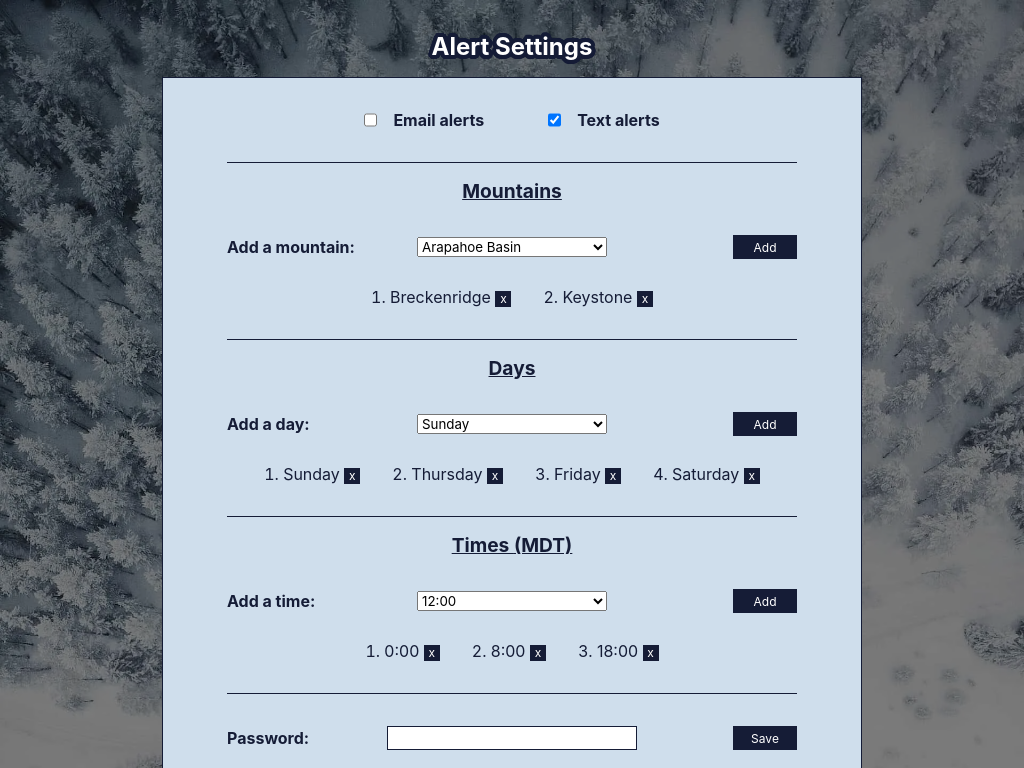
Test case: Adds selected time to list on click
This screenshot has width=1024, height=768.
Expected: the list with test id "time-list" is shown, [365, 645, 659, 661]
Select "11:00" in the dropdown labelled "Add a time:" at (512, 601), box [417, 591, 607, 611]
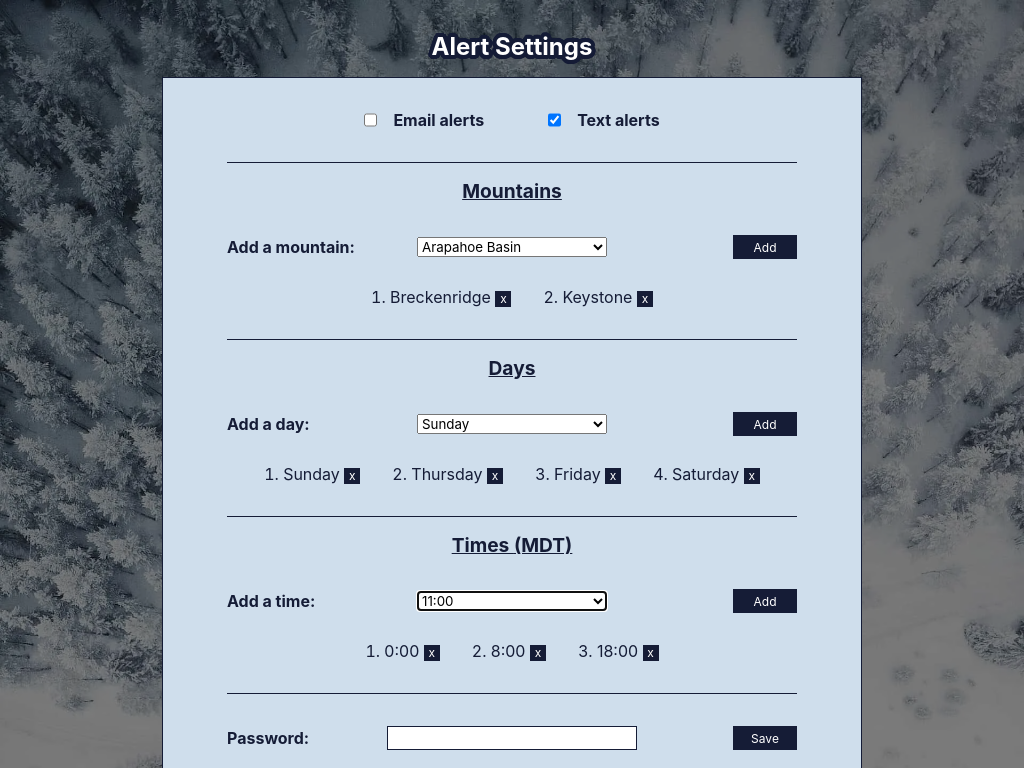
Click the button with test id "time-add" at (765, 601), box [733, 589, 797, 613]
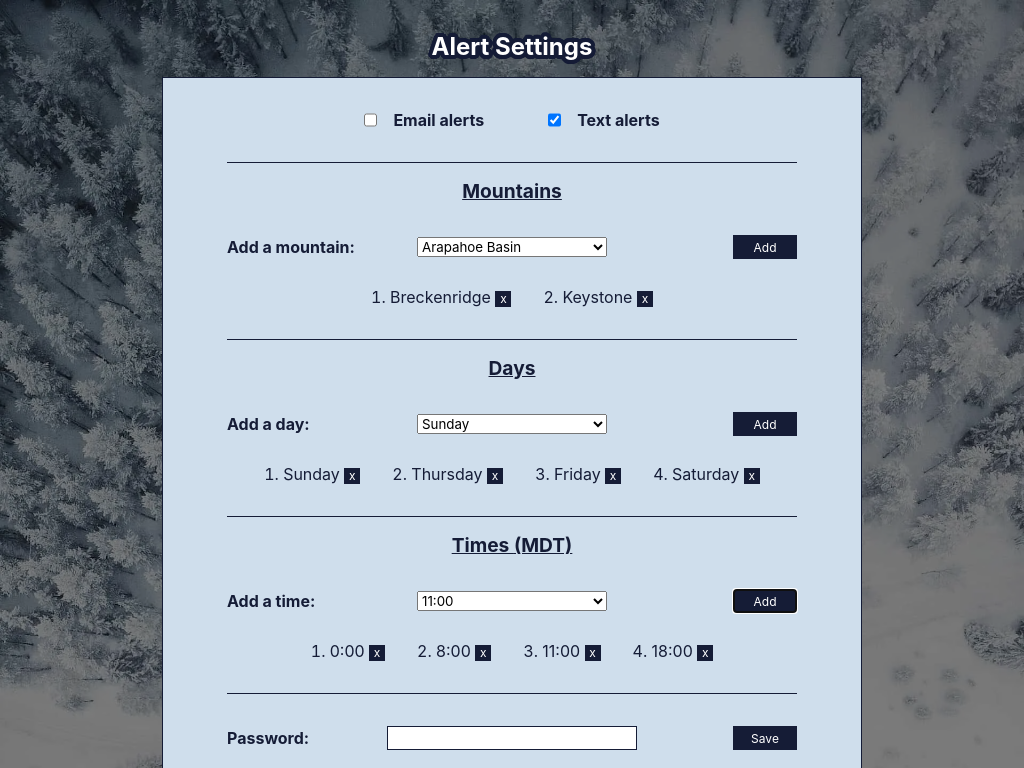
Expected: the list items read "0:00 x", "8:00 x", "11:00 x", "18:00 x", in this order, [330, 641, 385, 661]; [436, 641, 491, 661]; [542, 641, 601, 661]; [652, 641, 713, 661]
